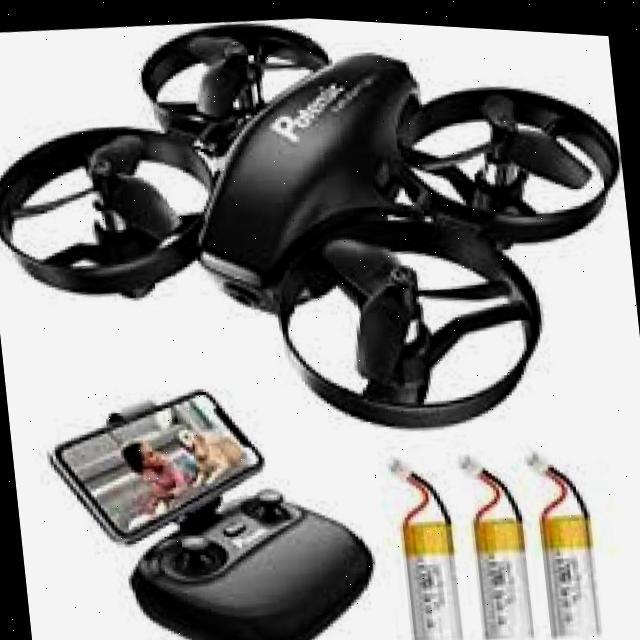drone: (0, 0, 640, 493)
